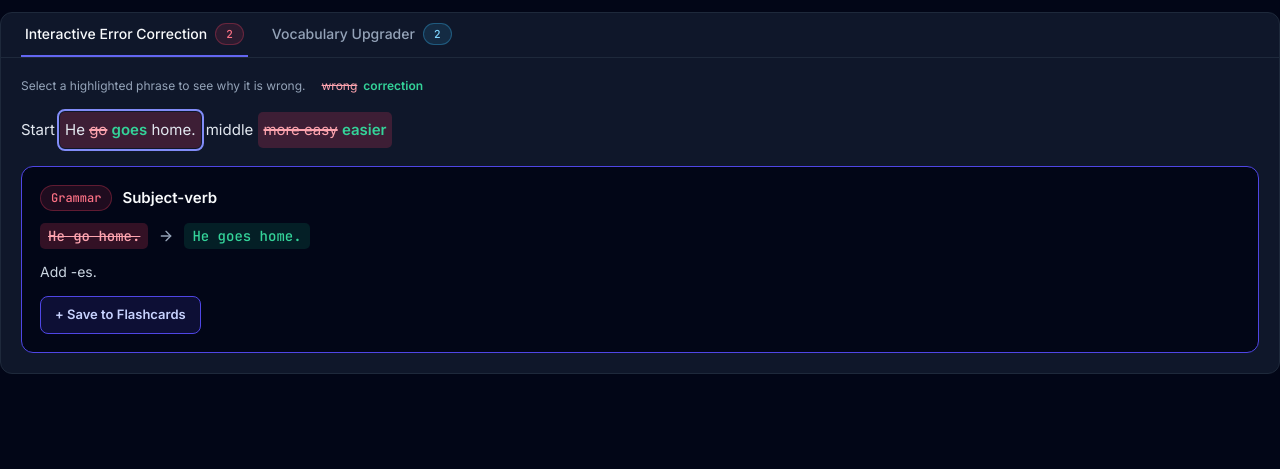
Test case: saved state survives switching tabs
The image size is (1280, 469).
Click the button "+ Save to Flashcards" at (120,315), box [40,296,201,334]
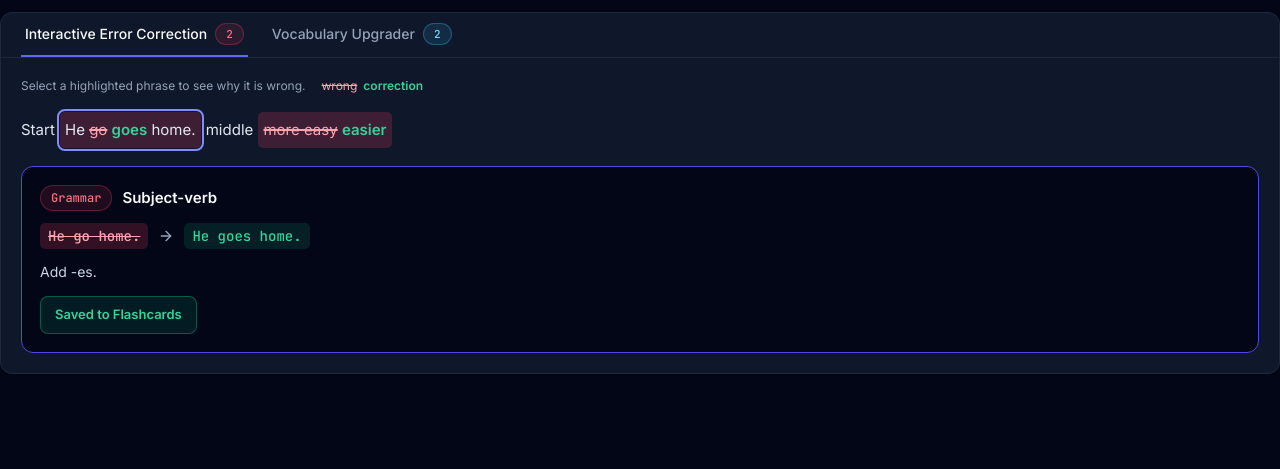
Expected: the button "Saved to Flashcards" is shown, [40,296,197,334]
Click the tab "Vocabulary Upgrader 2" at (362,35), box [268,13,456,57]
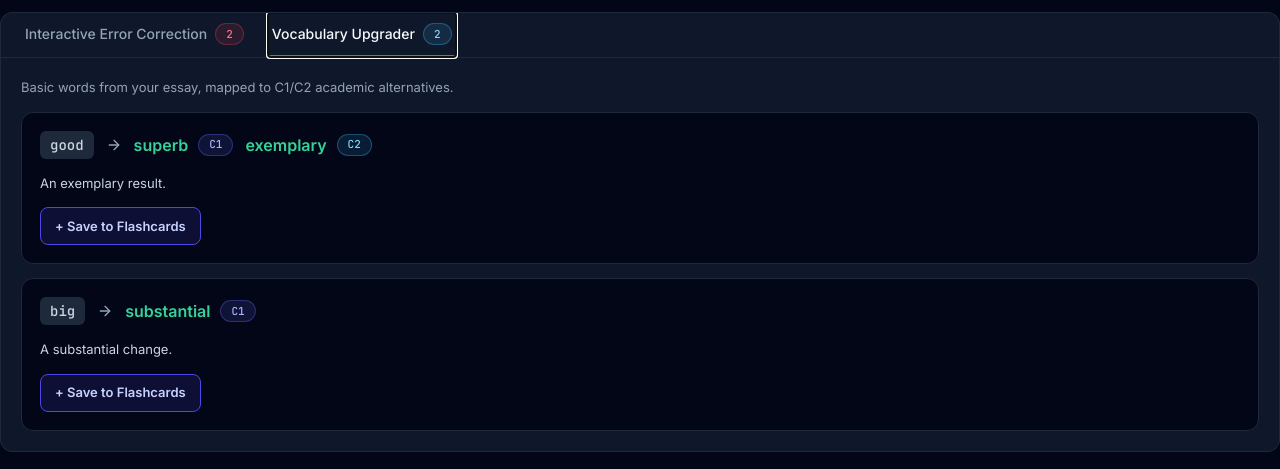
Click the tab "Interactive Error Correction 2" at (134,35), box [21,13,248,57]
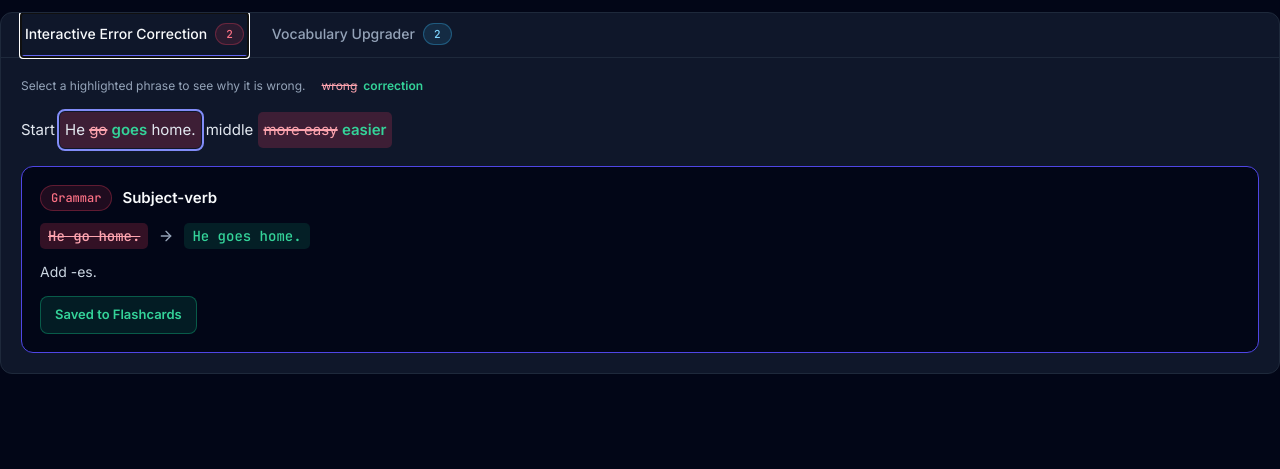
Expected: the button "Saved to Flashcards" is shown, [40,296,197,334]
